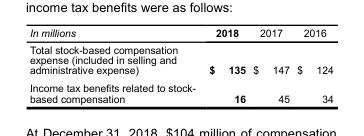table: (28, 28, 332, 105)
table column: (28, 28, 201, 105), (201, 28, 248, 105), (248, 28, 292, 105), (292, 28, 332, 105)
table column header: (28, 28, 332, 42)
table row: (28, 42, 332, 80), (28, 80, 332, 105), (28, 28, 332, 42)
